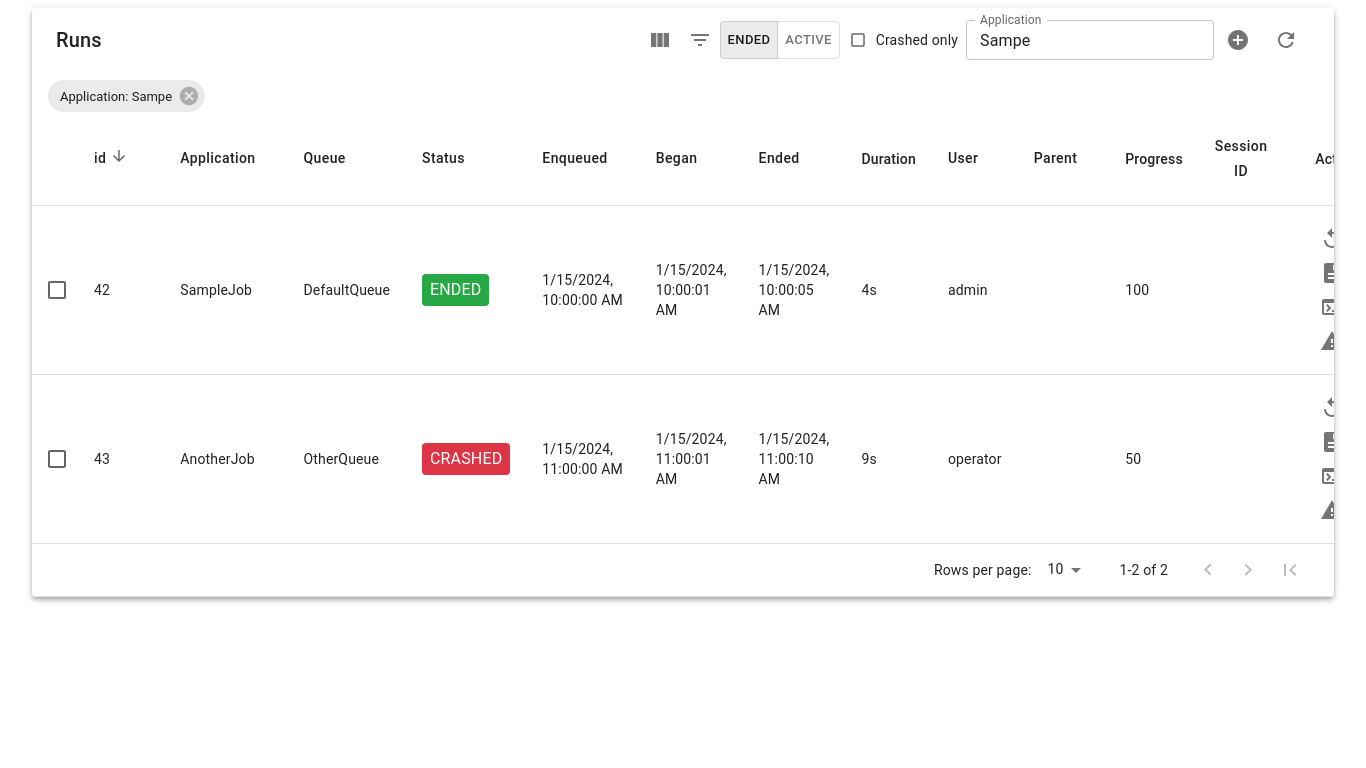
Scenario: RunsPage › opens stderr log in the details dialog when clicking the Log stderr button
Expected: the text "SampleJob" is shown, [180,282,252,298]
Click the button named "Log stderr" below "100" at (1332, 341), box [1315,324,1349,358]
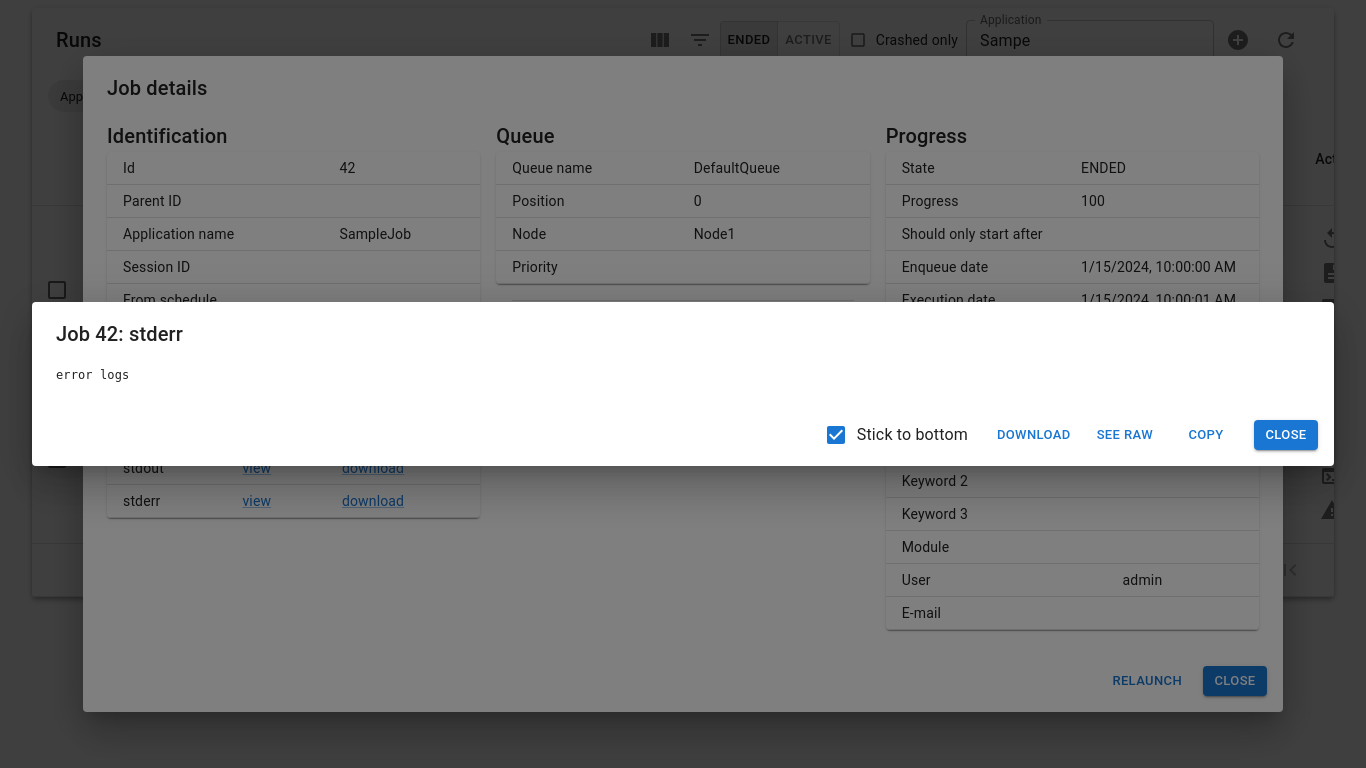
Expected: the dialog is shown, [32,302,1334,466]
Expected: the text "error logs" is shown, [56,368,129,382]
